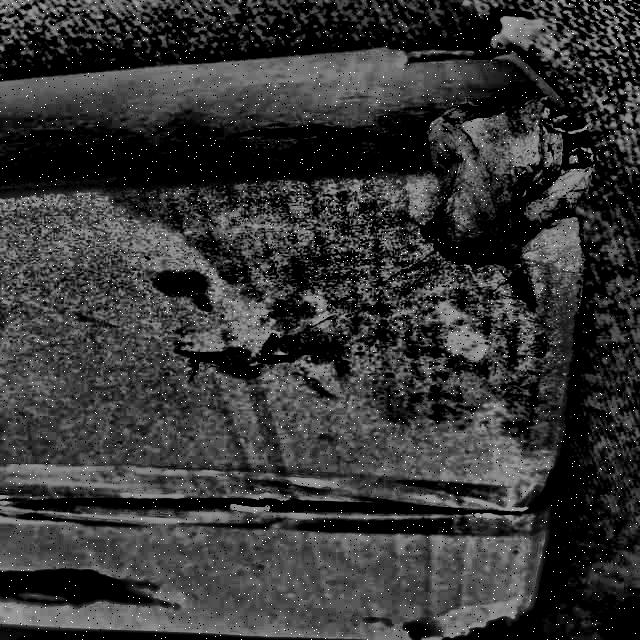box: (1, 38, 601, 640)
hole: (2, 554, 168, 614)
wet: (135, 112, 611, 413)
